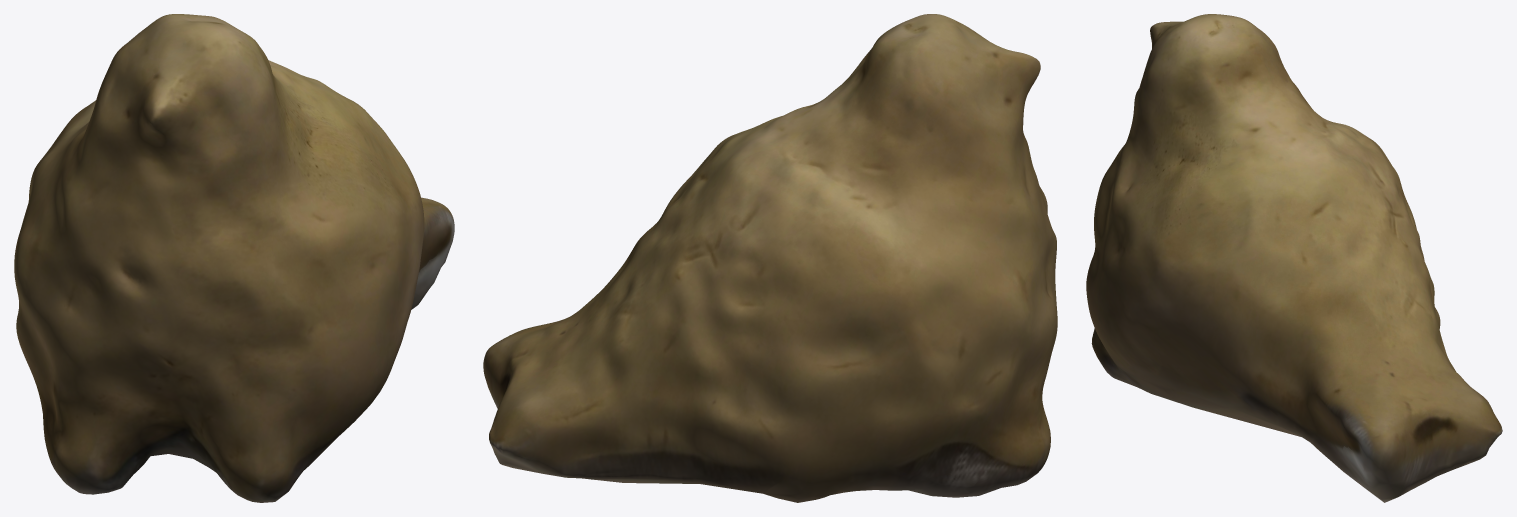
3 views of the same model, side by side, from view 1: azimuth 30°, elevation 25°; view 2: azimuth 150°, elevation 25°; view 3: azimuth 270°, elevation 25° (orthographic). The views are drawn at different scales.
Bounding box in the file's own units: 0.5459 × 0.4759 × 0.4907.
Materials: 1 (1 with a texture image).
